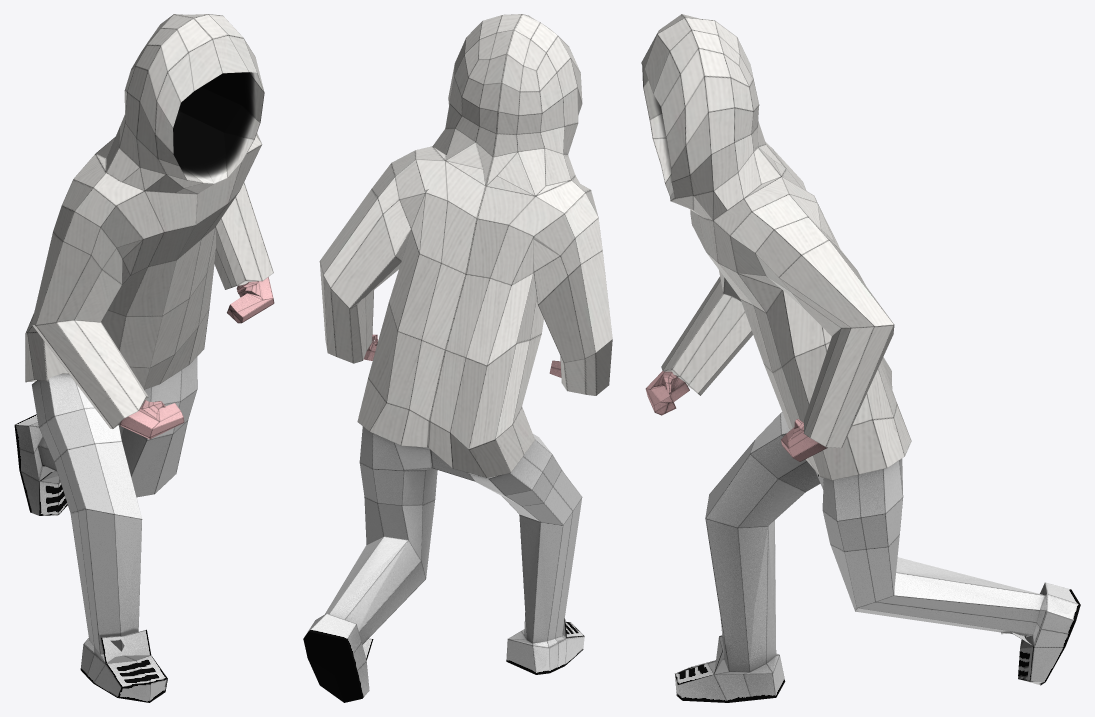
Rendered from Shadowmanv_000008.obj.
The picture shows the model from 3 angles, left to right: view 1: azimuth 30°, elevation 25°; view 2: azimuth 150°, elevation 25°; view 3: azimuth 270°, elevation 25°; orthographic projection. The views are drawn at different scales.
Visible parts, largest first — view 1: Cube.000; view 2: Cube.000; view 3: Cube.000.
Boxes of the visible parts, x1=… form: Cube.000: x1=14, y1=14, x2=274, y2=702; Cube.000: x1=303, y1=14, x2=612, y2=702; Cube.000: x1=641, y1=14, x2=1080, y2=702.
Bounding box in the file's own units: 4.65 × 10.92 × 6.19.
